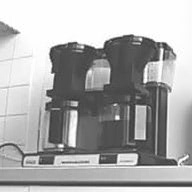empty coffee: (40, 98, 94, 154)
not empty coffee: (96, 95, 155, 153)
